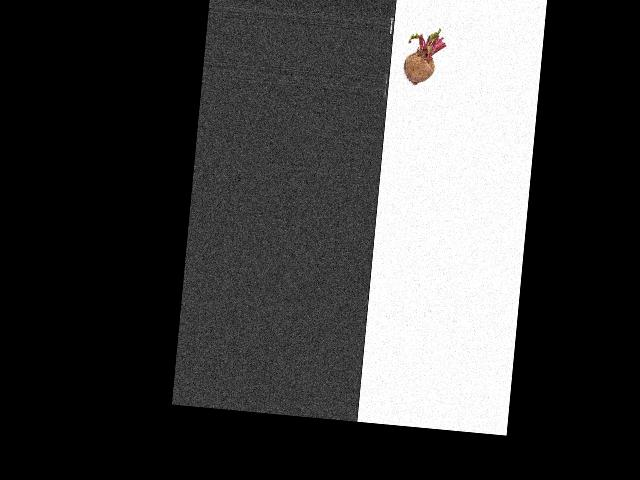beet: (402, 25, 447, 87)
